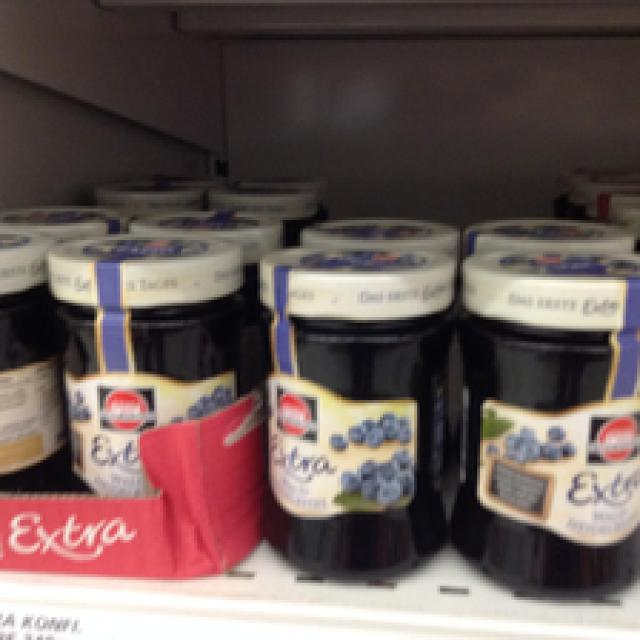groceries: (257, 243, 457, 583), (454, 243, 637, 594), (46, 232, 240, 494)
